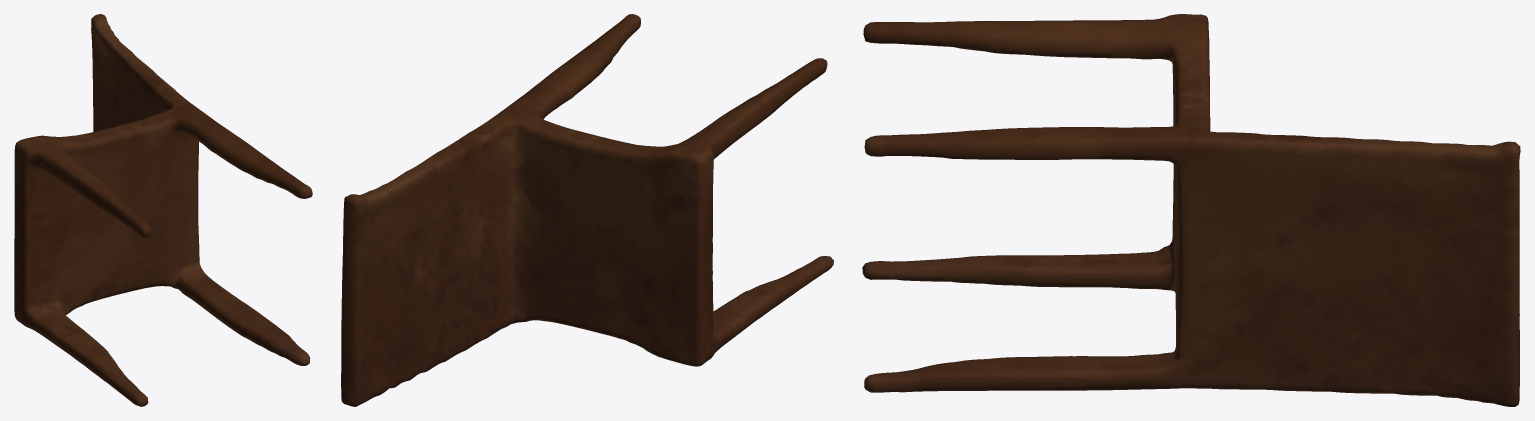
File: Classic four-legged chair with slanted backrest an.glb
The picture shows the model from 3 angles, left to right: view 1: azimuth 30°, elevation 25°; view 2: azimuth 150°, elevation 25°; view 3: azimuth 270°, elevation 25°; orthographic projection. The views are drawn at different scales.
Visible parts, largest first — view 1: Classic four-legged chair with slanted backrest an; view 2: Classic four-legged chair with slanted backrest an; view 3: Classic four-legged chair with slanted backrest an.
Part boxes in pixels (x1=…): Classic four-legged chair with slanted backrest an: x1=14, y1=14, x2=312, y2=406; Classic four-legged chair with slanted backrest an: x1=341, y1=14, x2=833, y2=406; Classic four-legged chair with slanted backrest an: x1=862, y1=14, x2=1520, y2=406.
Bounding box in the file's own units: 0.5126 × 0.4406 × 1.01.
